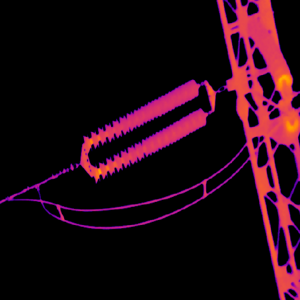insulator: (82, 75, 209, 183), (246, 17, 295, 90)
